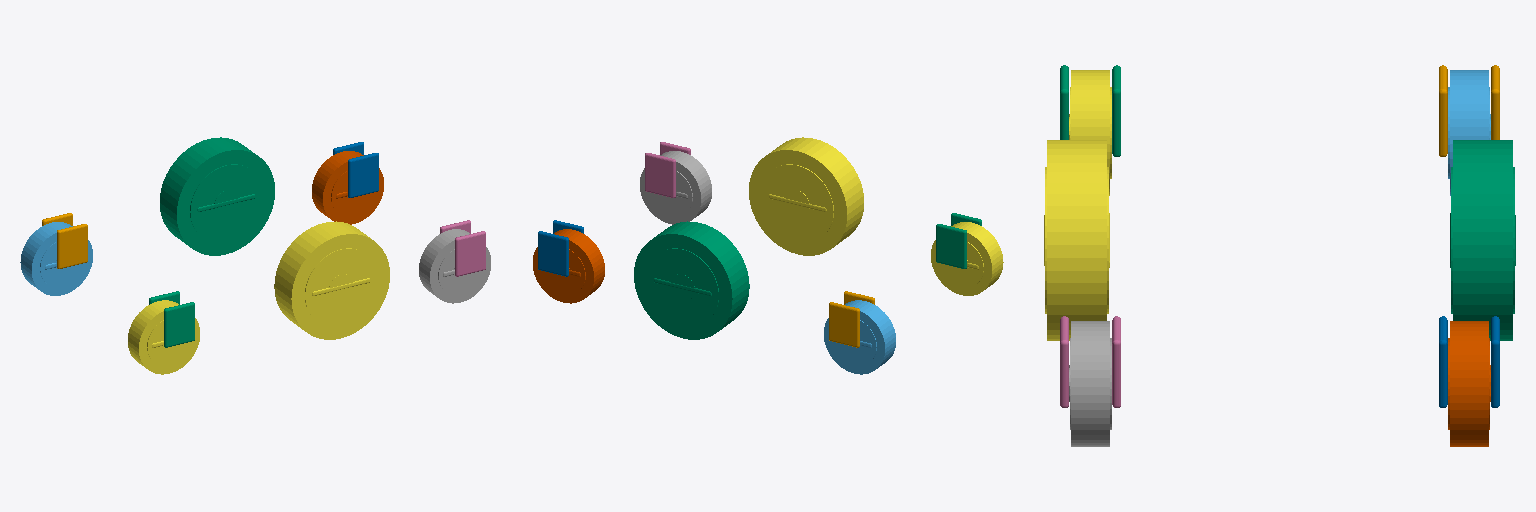
robot.urdf — mir250_reference:
<?xml version="1.0"?>
<robot name="mir250_reference">
<link name="base_footprint"></link>
<link name="base_link"><visual ><geometry ><mesh filename="../meshes/base_link.obj"/></geometry></visual><collision ><origin xyz="0 0 0.1625" rpy="0 0 0"/><geometry ><box size="0.8 0.58 0.275"/></geometry></collision></link>
<link name="left_wheel_link"><visual ><geometry ><mesh filename="../meshes/left_wheel_link.obj"/></geometry></visual></link>
<link name="right_wheel_link"><visual ><geometry ><mesh filename="../meshes/right_wheel_link.obj"/></geometry></visual></link>
<link name="fl_caster_rotation_link"><visual ><geometry ><mesh filename="../meshes/fl_caster_rotation_link.obj"/></geometry></visual></link>
<link name="fl_caster_wheel_link"><visual ><geometry ><mesh filename="../meshes/fl_caster_wheel_link.obj"/></geometry></visual></link>
<link name="fr_caster_rotation_link"><visual ><geometry ><mesh filename="../meshes/fr_caster_rotation_link.obj"/></geometry></visual></link>
<link name="fr_caster_wheel_link"><visual ><geometry ><mesh filename="../meshes/fr_caster_wheel_link.obj"/></geometry></visual></link>
<link name="bl_caster_rotation_link"><visual ><geometry ><mesh filename="../meshes/bl_caster_rotation_link.obj"/></geometry></visual></link>
<link name="bl_caster_wheel_link"><visual ><geometry ><mesh filename="../meshes/bl_caster_wheel_link.obj"/></geometry></visual></link>
<link name="br_caster_rotation_link"><visual ><geometry ><mesh filename="../meshes/br_caster_rotation_link.obj"/></geometry></visual></link>
<link name="br_caster_wheel_link"><visual ><geometry ><mesh filename="../meshes/br_caster_wheel_link.obj"/></geometry></visual></link>
<link name="deck"></link>
<link name="surface"></link>
<joint name="base_joint" type="fixed"><parent link="base_footprint"/><child link="base_link"/><origin xyz="0 0 0" rpy="0 0 0"/></joint>
<joint name="left_wheel_joint" type="continuous"><parent link="base_link"/><child link="left_wheel_link"/><origin xyz="0 0.2015 0.1" rpy="0 0 0"/><axis xyz="0 1 0"/><limit velocity="20"/></joint>
<joint name="right_wheel_joint" type="continuous"><parent link="base_link"/><child link="right_wheel_link"/><origin xyz="0 -0.2015 0.1" rpy="0 0 0"/><axis xyz="0 1 0"/><limit velocity="20"/></joint>
<joint name="fl_caster_rotation_joint" type="continuous"><parent link="base_link"/><child link="fl_caster_rotation_link"/><origin xyz="0.295 0.188 0.1565" rpy="0 0 0"/><axis xyz="0 0 1"/><limit /></joint>
<joint name="fl_caster_wheel_joint" type="continuous"><parent link="fl_caster_rotation_link"/><child link="fl_caster_wheel_link"/><origin xyz="-0.0382 0 -0.094" rpy="0 0 0"/><axis xyz="0 1 0"/><limit velocity="32"/></joint>
<joint name="fr_caster_rotation_joint" type="continuous"><parent link="base_link"/><child link="fr_caster_rotation_link"/><origin xyz="0.295 -0.188 0.1565" rpy="0 0 0"/><axis xyz="0 0 1"/><limit /></joint>
<joint name="fr_caster_wheel_joint" type="continuous"><parent link="fr_caster_rotation_link"/><child link="fr_caster_wheel_link"/><origin xyz="-0.0382 0 -0.094" rpy="0 0 0"/><axis xyz="0 1 0"/><limit velocity="32"/></joint>
<joint name="bl_caster_rotation_joint" type="continuous"><parent link="base_link"/><child link="bl_caster_rotation_link"/><origin xyz="-0.295 0.188 0.1565" rpy="0 0 0"/><axis xyz="0 0 1"/><limit /></joint>
<joint name="bl_caster_wheel_joint" type="continuous"><parent link="bl_caster_rotation_link"/><child link="bl_caster_wheel_link"/><origin xyz="-0.0382 0 -0.094" rpy="0 0 0"/><axis xyz="0 1 0"/><limit velocity="32"/></joint>
<joint name="br_caster_rotation_joint" type="continuous"><parent link="base_link"/><child link="br_caster_rotation_link"/><origin xyz="-0.295 -0.188 0.1565" rpy="0 0 0"/><axis xyz="0 0 1"/><limit /></joint>
<joint name="br_caster_wheel_joint" type="continuous"><parent link="br_caster_rotation_link"/><child link="br_caster_wheel_link"/><origin xyz="-0.0382 0 -0.094" rpy="0 0 0"/><axis xyz="0 1 0"/><limit velocity="32"/></joint>
<joint name="deck_joint" type="fixed"><parent link="base_link"/><child link="deck"/><origin xyz="0 0 0.3" rpy="0 0 0"/></joint>
<joint name="surface_joint" type="fixed"><parent link="base_link"/><child link="surface"/><origin xyz="0 0 0.3" rpy="0 0 0"/></joint>
</robot>

--- What the picture shows (computed from the rendered views, not written in the file) ---
The picture shows the robot from 3 angles, left to right: view 1: azimuth 30°, elevation 25°; view 2: azimuth 150°, elevation 25°; view 3: azimuth 270°, elevation 25°; orthographic projection.
Robot: mir250_reference — 14 links, 13 joints (10 continuous, 3 fixed); root link base_footprint; default pose: every joint at zero.
Visible links, largest first — view 1: right_wheel_link, left_wheel_link, bl_caster_wheel_link, br_caster_wheel_link, fr_caster_wheel_link, fl_caster_wheel_link, br_caster_rotation_link, fr_caster_rotation_link, fl_caster_rotation_link, bl_caster_rotation_link; view 2: left_wheel_link, right_wheel_link, br_caster_wheel_link, bl_caster_wheel_link, fl_caster_wheel_link, fr_caster_wheel_link, bl_caster_rotation_link, fl_caster_rotation_link, fr_caster_rotation_link, br_caster_rotation_link; view 3: left_wheel_link, right_wheel_link, fl_caster_wheel_link, fr_caster_wheel_link, bl_caster_wheel_link, br_caster_wheel_link, fl_caster_rotation_link, fr_caster_rotation_link, bl_caster_rotation_link, br_caster_rotation_link.
Link boxes in pixels (<box>): right_wheel_link: <box>274,221,389,339</box>; left_wheel_link: <box>160,137,274,255</box>; bl_caster_wheel_link: <box>20,222,92,295</box>; br_caster_wheel_link: <box>128,300,199,374</box>; fr_caster_wheel_link: <box>419,229,490,303</box>; fl_caster_wheel_link: <box>312,151,383,224</box>; br_caster_rotation_link: <box>149,291,194,347</box>; fr_caster_rotation_link: <box>440,220,485,276</box>; fl_caster_rotation_link: <box>333,142,378,197</box>; bl_caster_rotation_link: <box>42,213,87,268</box>; left_wheel_link: <box>634,221,749,339</box>; right_wheel_link: <box>749,137,863,255</box>; br_caster_wheel_link: <box>931,222,1003,295</box>; bl_caster_wheel_link: <box>824,300,895,374</box>; fl_caster_wheel_link: <box>533,229,604,303</box>; fr_caster_wheel_link: <box>640,151,711,224</box>; bl_caster_rotation_link: <box>829,291,874,347</box>; fl_caster_rotation_link: <box>538,220,583,276</box>; fr_caster_rotation_link: <box>645,142,690,197</box>; br_caster_rotation_link: <box>936,213,981,268</box>; left_wheel_link: <box>1450,140,1515,340</box>; right_wheel_link: <box>1044,140,1109,340</box>; fl_caster_wheel_link: <box>1448,321,1490,446</box>; fr_caster_wheel_link: <box>1069,321,1111,446</box>; bl_caster_wheel_link: <box>1448,70,1490,195</box>; br_caster_wheel_link: <box>1069,70,1111,195</box>; fl_caster_rotation_link: <box>1439,316,1499,407</box>; fr_caster_rotation_link: <box>1060,316,1120,407</box>; bl_caster_rotation_link: <box>1439,65,1499,156</box>; br_caster_rotation_link: <box>1060,65,1120,156</box>.
Size in the robot's own frame: 0.715 by 0.468 by 0.2 metres.
10 mesh visuals loaded from 11 distinct referenced files (10 OBJ); not drawn: 1 (reference not matched to a file when rendering).
